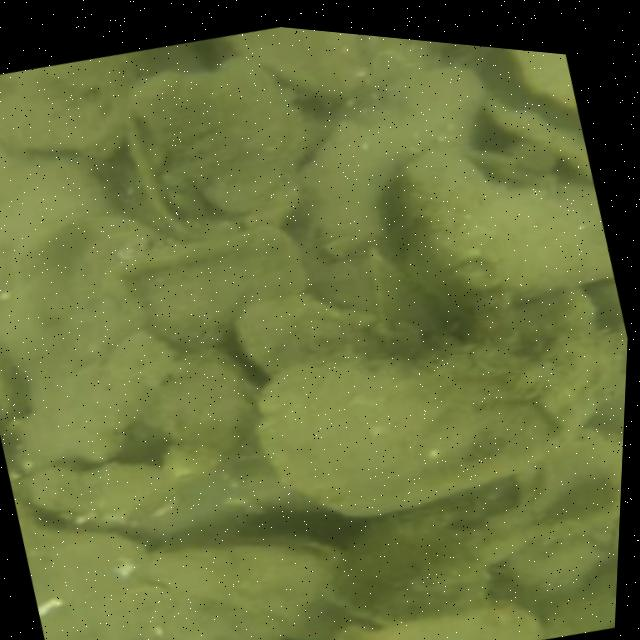Oyster-Indeterminate: (254, 324, 627, 515), (393, 148, 593, 310), (131, 55, 308, 212), (102, 220, 313, 351), (130, 540, 379, 640), (329, 494, 493, 627), (0, 53, 136, 155), (226, 28, 374, 98)
